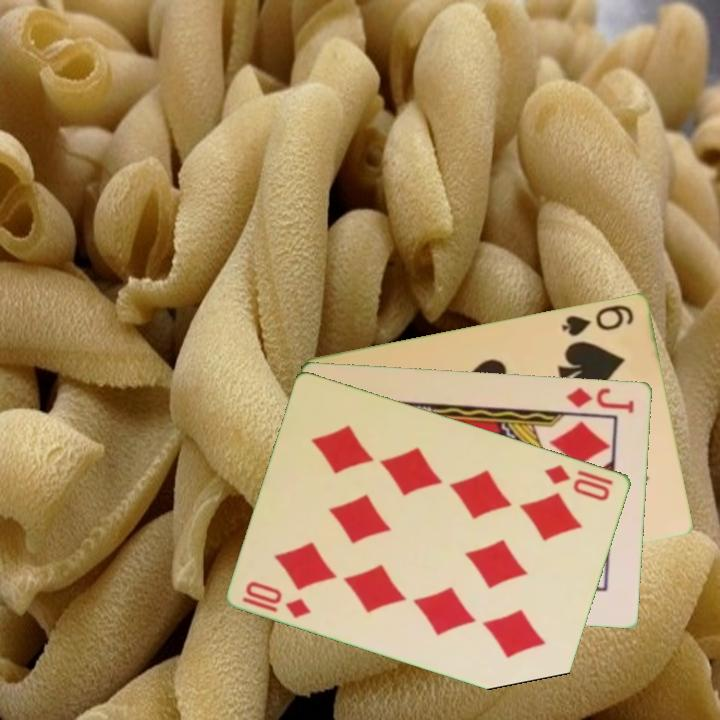10d: (239, 577, 315, 621), (541, 460, 614, 504)
6s: (558, 300, 637, 339)
Jd: (563, 383, 637, 415)
